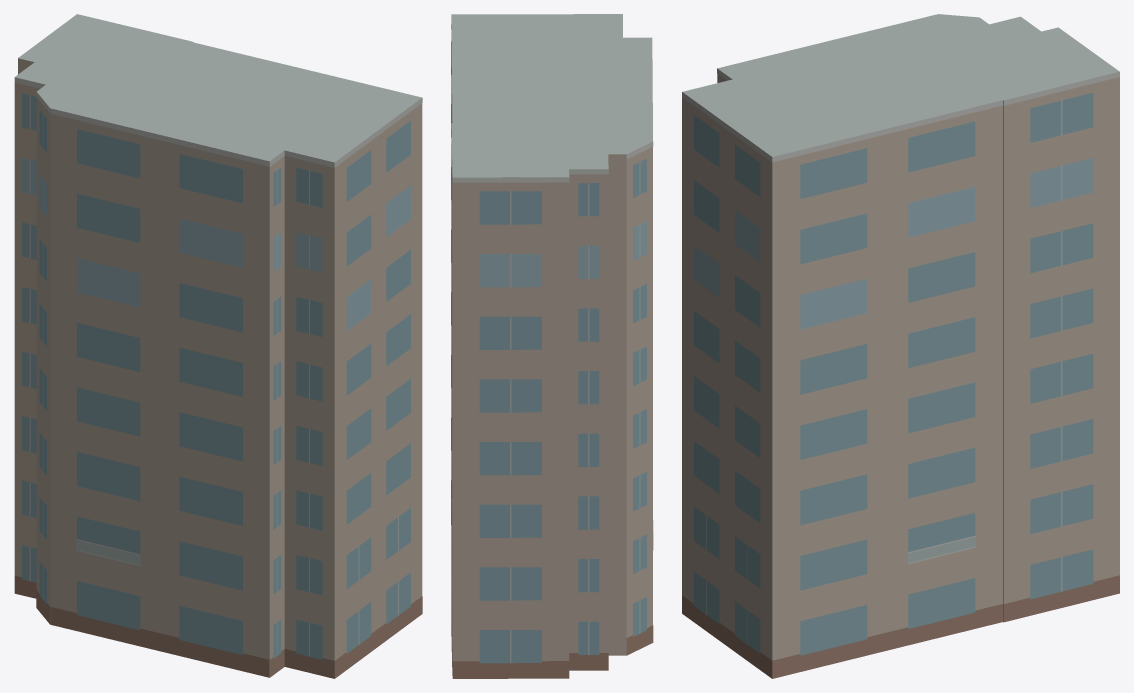
File: survey-upis-32664378.glb
The picture shows the model from 3 angles, left to right: view 1: azimuth 30°, elevation 25°; view 2: azimuth 150°, elevation 25°; view 3: azimuth 270°, elevation 25°; orthographic projection. The views are drawn at different scales.
Parts seen in each view (by area): view 1: survey-upis-32664378.tmp; view 2: survey-upis-32664378.tmp; view 3: survey-upis-32664378.tmp.
Boxes of the visible parts, left/top/right/bottom form: survey-upis-32664378.tmp: left=14, top=14, right=422, bottom=678; survey-upis-32664378.tmp: left=451, top=14, right=653, bottom=678; survey-upis-32664378.tmp: left=682, top=14, right=1119, bottom=678.
Size of the model in its own units: 13.94 by 23.7 by 18.03.
